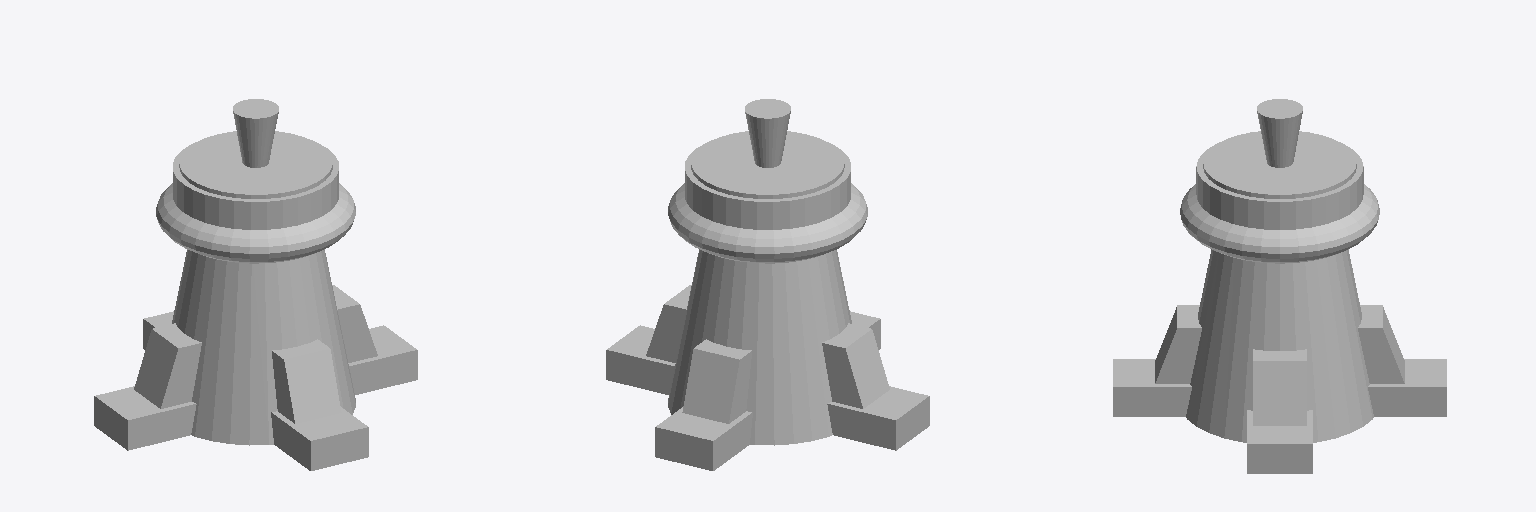
File: watertower.obj
The picture shows the model from 3 angles: view 1: azimuth 30°, elevation 25°; view 2: azimuth 150°, elevation 25°; view 3: azimuth 270°, elevation 25°; orthographic projection.
Visible parts, largest first — view 1: Cylinder, Cube.001_Cube.002, Cube, Cylinder.002, Sphere, Cylinder.003, Cylinder.001; view 2: Cylinder, Cube.001_Cube.002, Cube, Cylinder.002, Sphere, Cylinder.003, Cylinder.001; view 3: Cylinder, Cube.001_Cube.002, Cube, Cylinder.002, Sphere, Cylinder.003, Cylinder.001.
Boxes of the visible parts, x1,y1,x2,y2 form: Cylinder: [172, 249, 355, 445]; Cube.001_Cube.002: [94, 311, 417, 470]; Cube: [134, 285, 377, 423]; Cylinder.002: [179, 131, 332, 198]; Sphere: [156, 183, 355, 263]; Cylinder.003: [173, 142, 338, 229]; Cylinder.001: [233, 99, 278, 167]; Cylinder: [668, 249, 851, 445]; Cube.001_Cube.002: [606, 311, 929, 470]; Cube: [646, 285, 889, 423]; Cylinder.002: [691, 131, 844, 198]; Sphere: [668, 183, 867, 263]; Cylinder.003: [685, 142, 850, 229]; Cylinder.001: [745, 99, 790, 167]; Cylinder: [1186, 249, 1373, 442]; Cube.001_Cube.002: [1113, 359, 1446, 473]; Cube: [1155, 305, 1404, 425]; Cylinder.002: [1203, 131, 1356, 198]; Sphere: [1180, 184, 1379, 263]; Cylinder.003: [1196, 142, 1363, 229]; Cylinder.001: [1257, 99, 1302, 167].
Size of the model in its own units: 10 by 9.71 by 10.